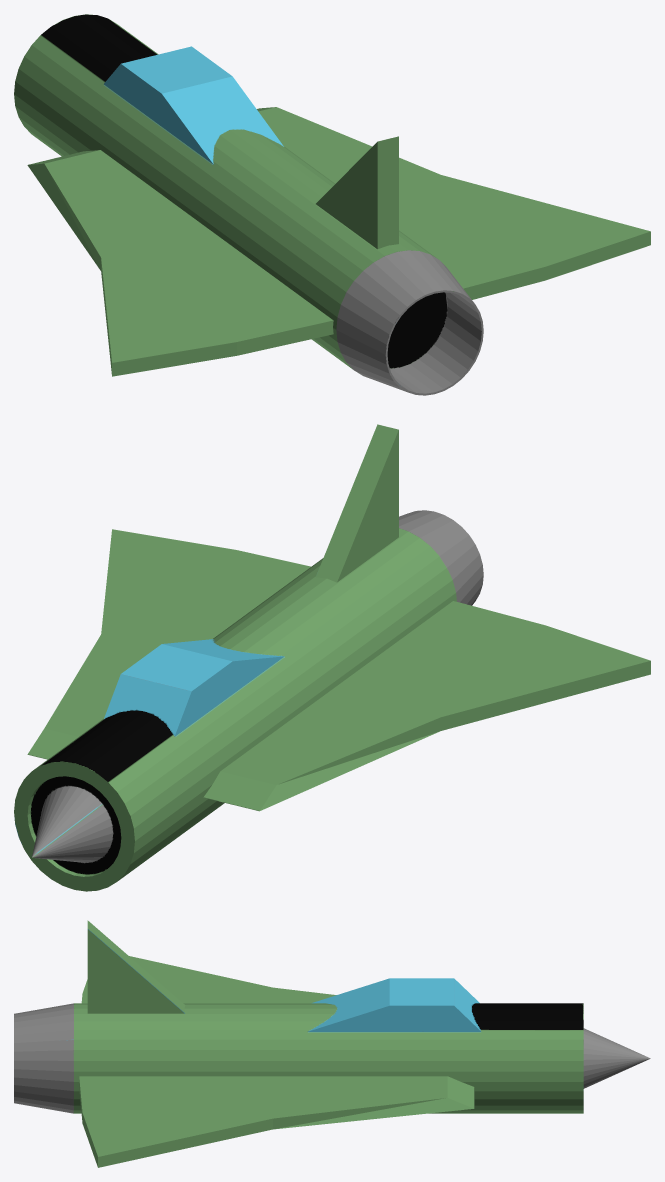
Rendered from player.obj.
The picture shows the model from 3 angles, top to bottom: view 1: azimuth 30°, elevation 25°; view 2: azimuth 150°, elevation 25°; view 3: azimuth 270°, elevation 25°; orthographic projection. The views are drawn at different scales.
Visible parts, largest first — view 1: 円柱; view 2: 円柱; view 3: 円柱.
Boxes of the visible parts, <box> form: 円柱: <box>14,14,650,395</box>; 円柱: <box>14,424,650,891</box>; 円柱: <box>14,920,650,1167</box>.
Size of the model in its own units: 3.31 by 1.37 by 4.28.
1 material, 1 textured.
